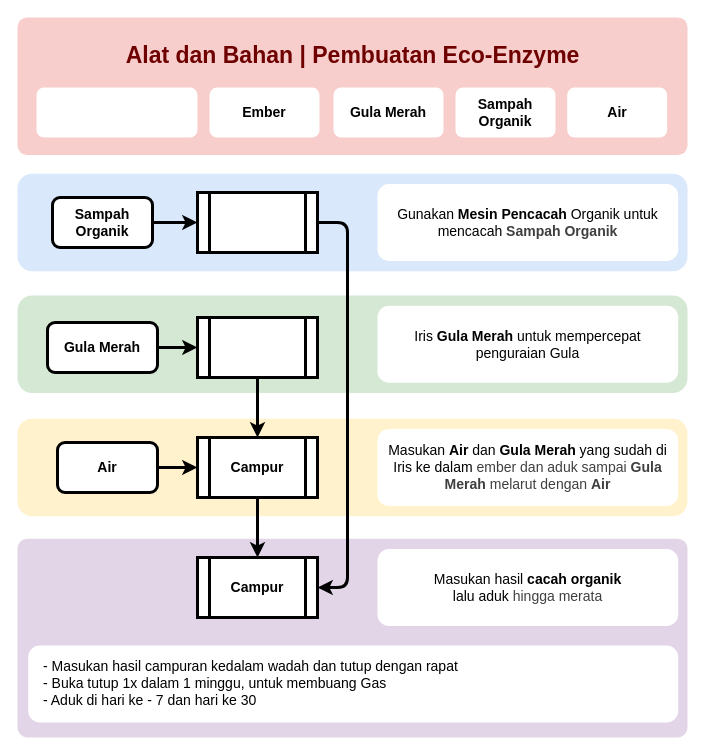
This 704x754 diagram has some shape labels left out. The shapes that lost their labels are listed below. From the top down, each one's centre as x and y in pixels, then its label:
[116,112]: Sendok/Pengaduk Plastik
[257,222]: Cacah
[257,347]: Iris
